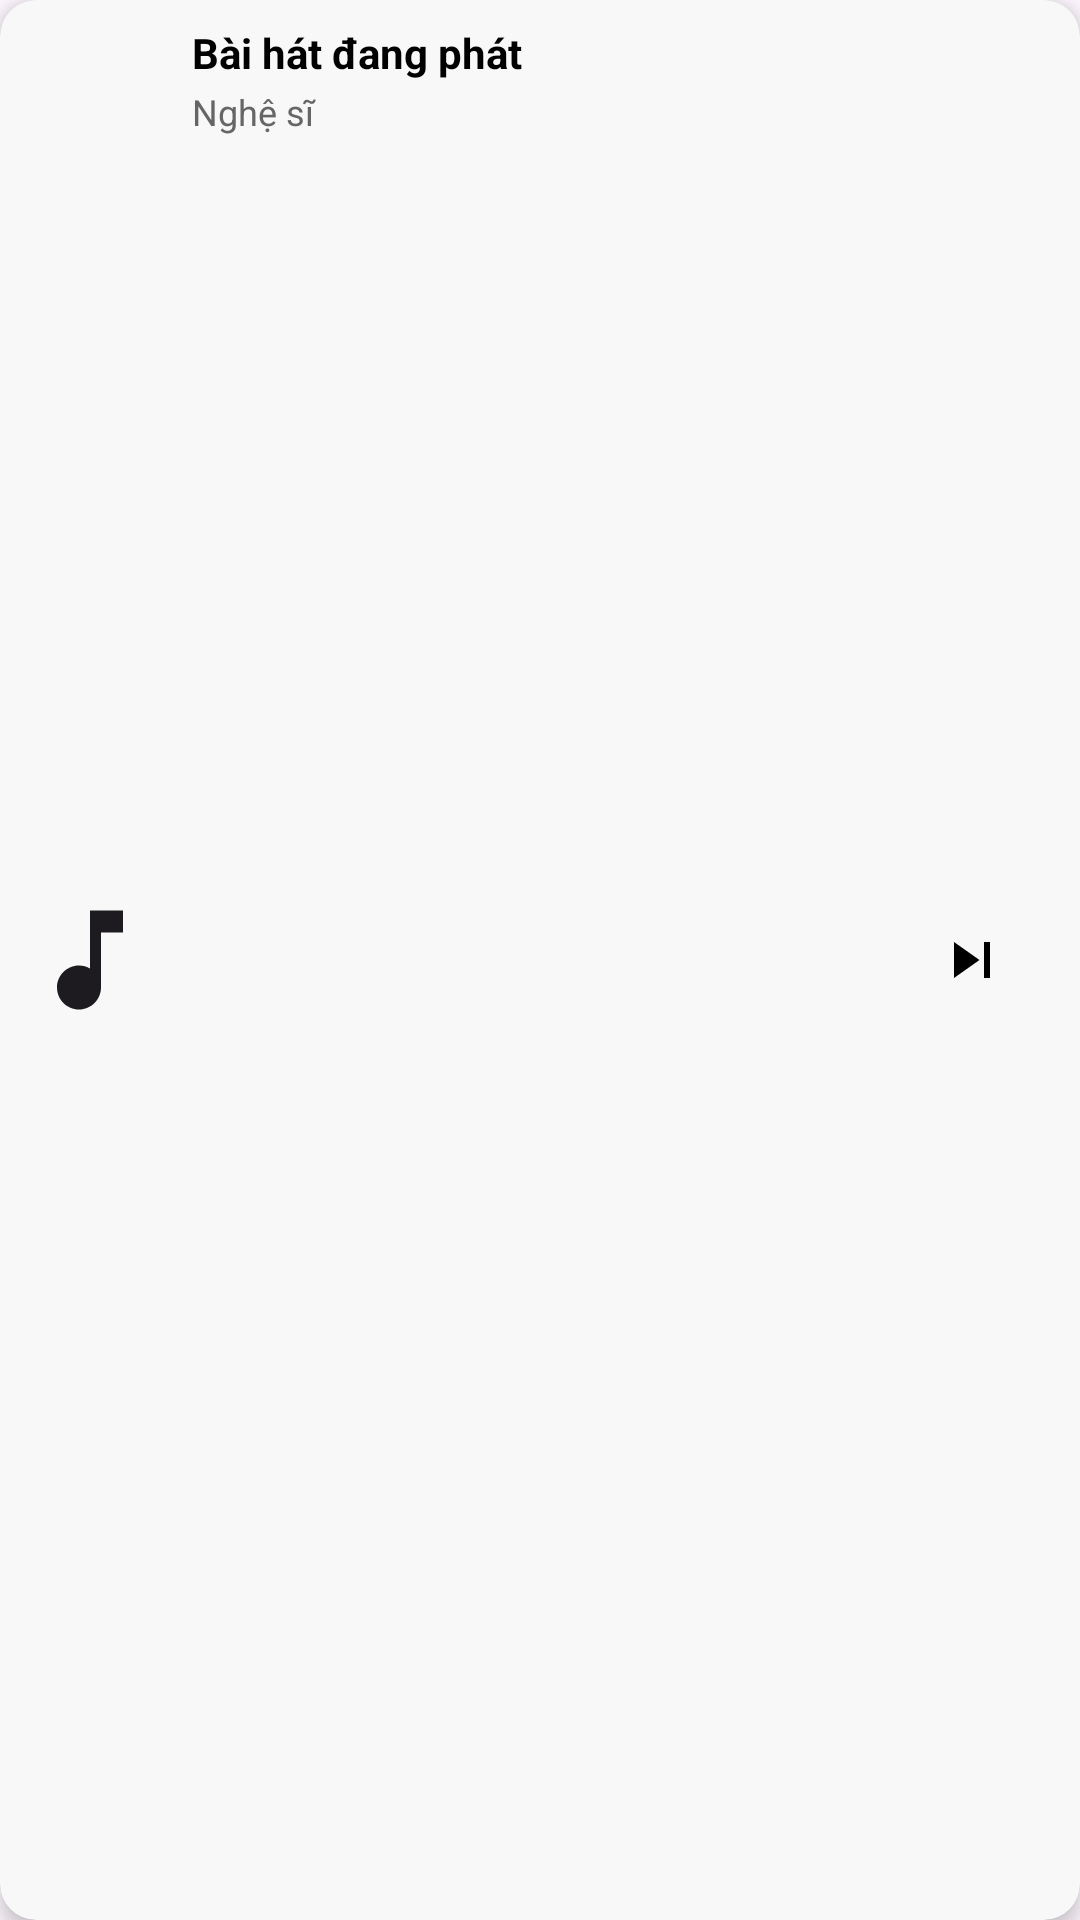

Screen size 1080 x 1920. Icon name, then its box in pixels as bbox=[x1, y1, x2, y2]:
music note: bbox=[57, 910, 123, 1010]
Next: bbox=[954, 942, 990, 978]
